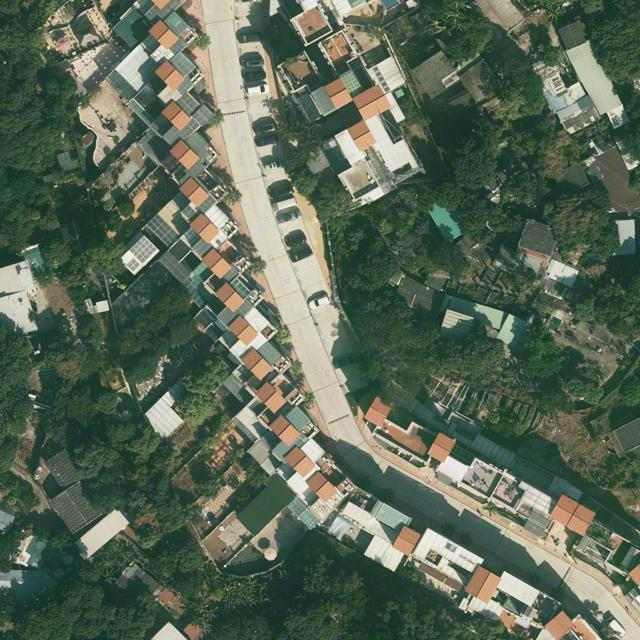SolarPanel: (146, 215, 180, 247), (159, 251, 191, 284), (192, 105, 214, 128), (176, 92, 199, 114), (200, 195, 216, 212), (182, 206, 198, 221)
